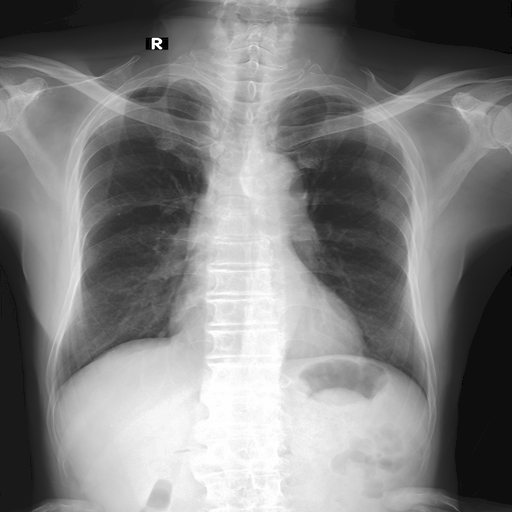Calcification: (344, 95, 362, 106)
Consolidation: (244, 153, 311, 229)
Nodule/Mass: (164, 302, 366, 372)
Other lesion: (158, 331, 166, 337)
Pulmonary fibrosis: (158, 331, 166, 337)
